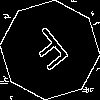F: (25, 25, 77, 80)
